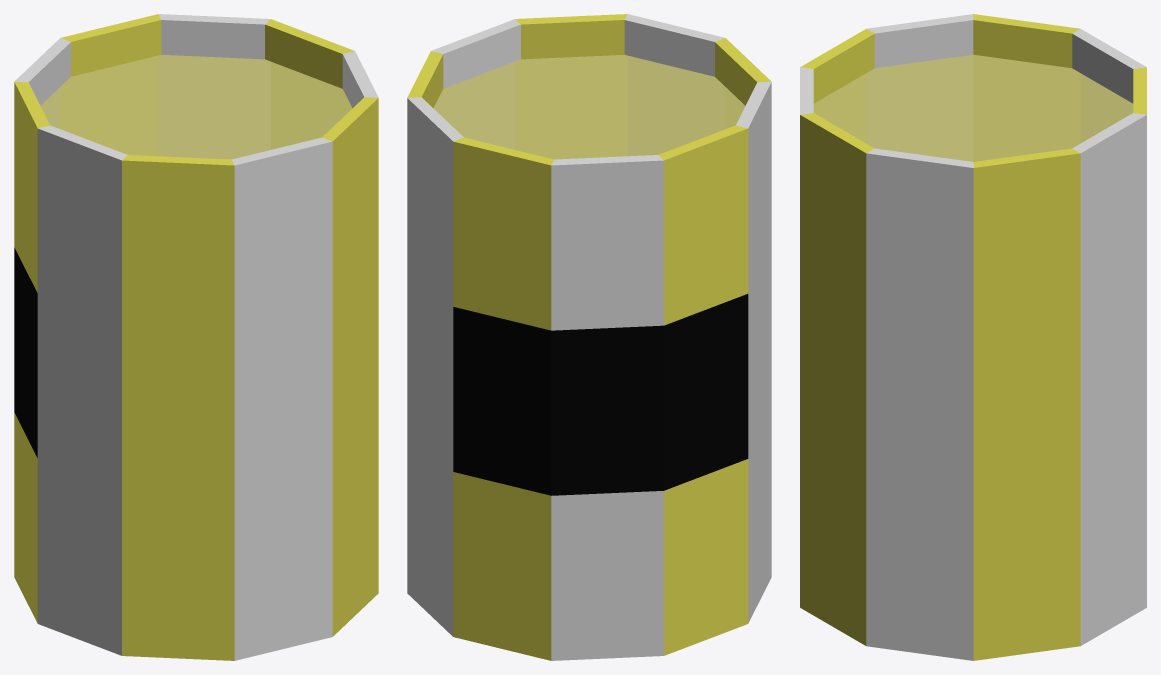
Rendered from IceBucketOpen.fbx.
3 renders of one model, left to right at view 1: azimuth 30°, elevation 25°; view 2: azimuth 150°, elevation 25°; view 3: azimuth 270°, elevation 25°, orthographic.
Parts seen in each view (by area): view 1: IceBucketOpen; view 2: IceBucketOpen; view 3: IceBucketOpen.
Boxes of the visible parts, x1,y1,x2,y2 form: IceBucketOpen: [14, 14, 378, 660]; IceBucketOpen: [407, 14, 771, 660]; IceBucketOpen: [800, 14, 1146, 660].
Size of the model in its own units: 27.9 by 41.62 by 26.54.
